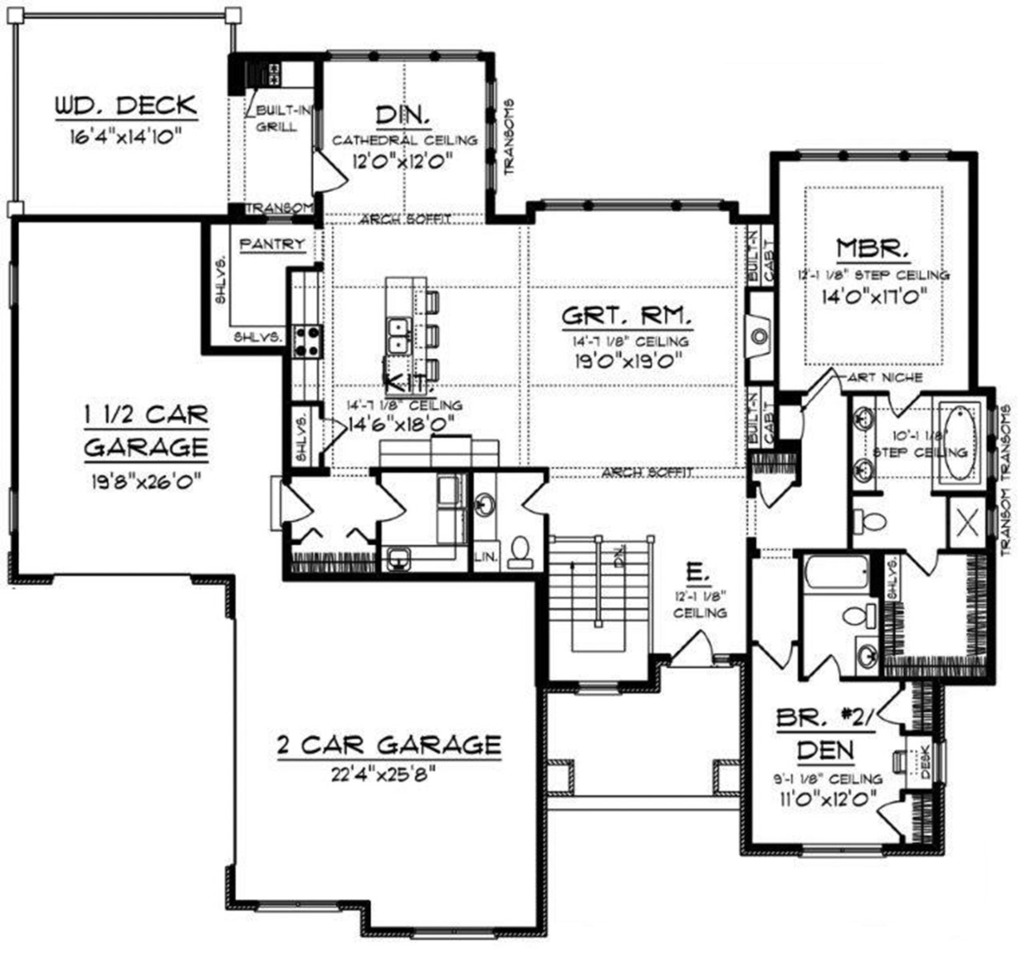door: (794, 354, 861, 419), (263, 475, 313, 534), (752, 470, 809, 516), (872, 675, 919, 730), (669, 625, 727, 667), (366, 479, 410, 528), (875, 794, 918, 843), (515, 476, 560, 522), (309, 140, 348, 193), (313, 412, 360, 455), (801, 648, 848, 690), (904, 543, 943, 590), (757, 639, 795, 678)
kitchen_bar: (367, 261, 455, 409)
large_sink: (837, 598, 885, 640), (842, 503, 894, 533), (503, 530, 531, 569)
small_sink: (849, 394, 882, 488), (848, 637, 881, 675), (473, 482, 503, 519), (385, 548, 425, 575)
stairs: (543, 528, 649, 685)
tub: (798, 549, 878, 590)
twin_sink: (383, 306, 421, 354)
window: (576, 675, 631, 707), (800, 837, 883, 857), (403, 930, 504, 946), (255, 897, 348, 909)
